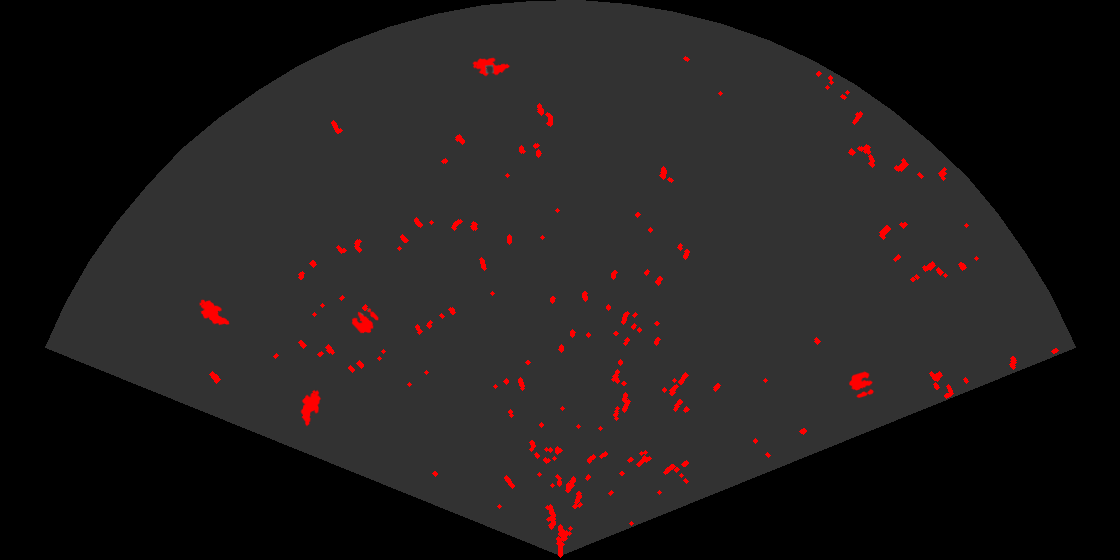AUV: (299, 388, 323, 428), (198, 298, 231, 327), (471, 56, 512, 78)
ball: (847, 370, 876, 400), (350, 307, 380, 335)
